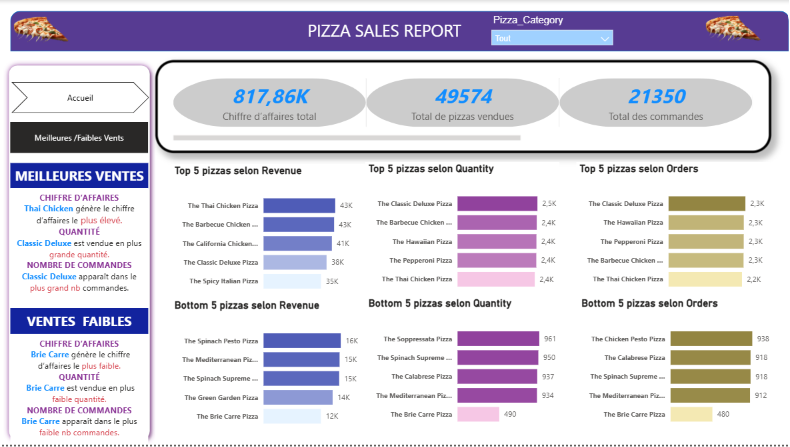

Layout of this report page (visuals, bound fields, positions):
{"tool":"powerbi","page":{"name":"Meilleures /Faibles Vents","canvas":[1280,720],"ordinal":1},"visuals":[{"type":"cardVisual","fields":{"Data":["pizza_sales.Total Revenue","pizza_sales.Total pizza sold","pizza_sales.TOTAL ORDERS","pizza_sales.avg pizza per order","pizza_sales.avg Order value"]},"box":[252.6,97.2,997.4,150.6],"z":0},{"type":"shape","box":[17.2,17.2,1262.3,65.3],"z":1000},{"type":"textbox","box":[485.8,25.9,275.3,48.6],"z":2000},{"type":"image","box":[1127,0,123.1,97.2],"z":3000},{"type":"image","box":[6.5,1.6,123.1,97.2],"z":4000},{"type":"shape","box":[6.5,97.2,246.1,623.4],"z":5000},{"type":"textbox","box":[17.8,263.9,223.5,40.5],"z":6000},{"type":"textbox","box":[17.8,304.4,223.5,179.7],"z":7000},{"type":"textbox","box":[17.7,499.3,223.2,42],"z":8000},{"type":"textbox","box":[17.8,540.8,223.5,179.7],"z":9000},{"type":"slicer","title":"Pizza_Category","fields":{"Values":["pizza_sales.pizza_category"]},"box":[786.6,17.2,216.4,65.3],"z":10000},{"type":"barChart","title":"Top 5 pizzas selon Revenue","fields":{"Category":["pizza_sales.pizza_name"],"Y":["pizza_sales.Total Revenue"]},"box":[278.4,265.1,314.3,219.8],"z":11000},{"type":"barChart","title":"Bottom 5 pizzas selon Revenue","fields":{"Category":["pizza_sales.pizza_name"],"Y":["pizza_sales.Total Revenue"]},"box":[278.2,484.3,314.3,219.8],"z":12000},{"type":"barChart","title":"Top 5 pizzas selon Quantity","fields":{"Category":["pizza_sales.pizza_name"],"Y":["pizza_sales.Total pizza sold"]},"box":[592.1,262.9,314.3,219.8],"z":13000},{"type":"barChart","title":"Bottom 5 pizzas selon Quantity","fields":{"Category":["pizza_sales.pizza_name"],"Y":["pizza_sales.Total pizza sold"]},"box":[592.1,481.7,314.3,219.8],"z":14000},{"type":"barChart","title":"Top 5 pizzas selon Orders","fields":{"Category":["pizza_sales.pizza_name"],"Y":["pizza_sales.TOTAL ORDERS"]},"box":[934.6,262.9,314.3,219.8],"z":15000},{"type":"barChart","title":"Bottom 5 pizzas selon Orders","fields":{"Category":["pizza_sales.pizza_name"],"Y":["pizza_sales.TOTAL ORDERS"]},"box":[936.8,481.7,314.3,219.8],"z":16000},{"type":"pageNavigator","box":[18.9,132.2,223.2,50.8],"z":17000},{"type":"pageNavigator","box":[17.2,197.5,223.2,50.8],"z":18000}]}

Visuals, with their boxes in screenshot pixels (x1, y1, x2, y2), scaled from the page's 1280x720 canvas onto the 790x447 screenshot:
cardVisual - pizza_sales.Total Revenue x pizza_sales.Total pizza sold: 156:60:771:154
shape: 11:11:789:51
textbox: 300:16:470:46
image: 696:0:772:60
image: 4:1:80:61
shape: 4:60:156:446
textbox: 11:164:149:189
textbox: 11:189:149:301
textbox: 11:310:149:336
textbox: 11:336:149:446
"Pizza_Category" slicer: 485:11:619:51
"Top 5 pizzas selon Revenue" barChart: 172:165:366:301
"Bottom 5 pizzas selon Revenue" barChart: 172:301:366:437
"Top 5 pizzas selon Quantity" barChart: 365:163:559:300
"Bottom 5 pizzas selon Quantity" barChart: 365:299:559:436
"Top 5 pizzas selon Orders" barChart: 577:163:771:300
"Bottom 5 pizzas selon Orders" barChart: 578:299:772:436
pageNavigator: 12:82:149:114
pageNavigator: 11:123:148:154
